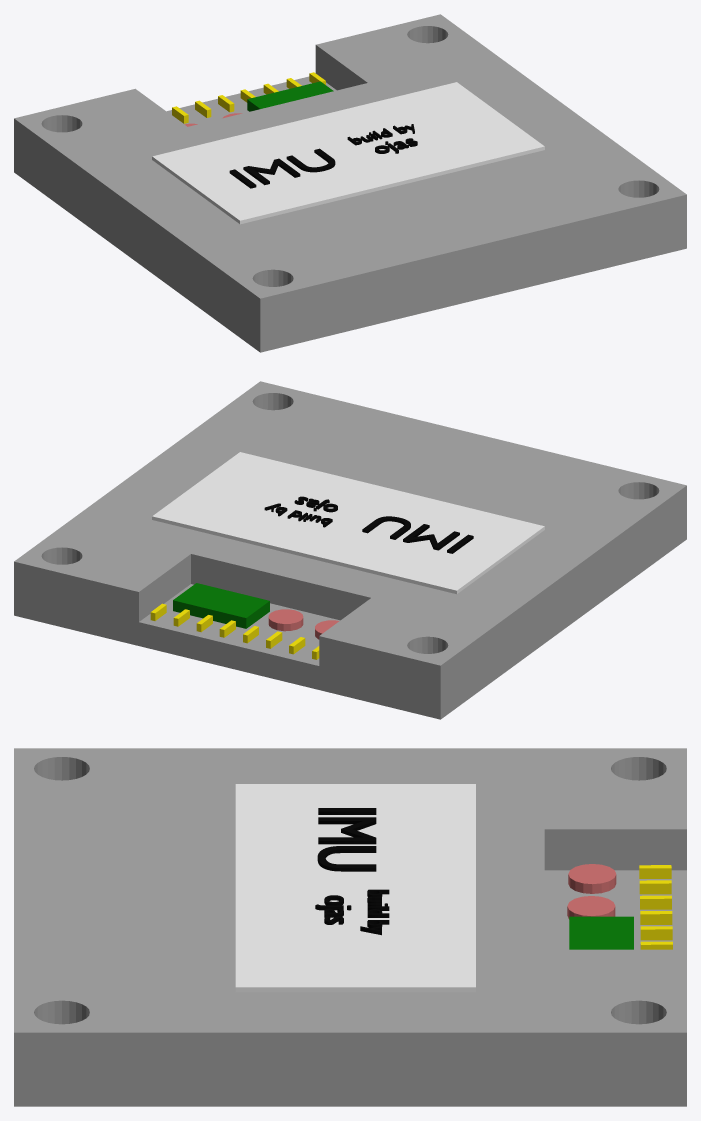
Rendered from imu.dae.
The picture shows the model from 3 angles, top to bottom: view 1: azimuth 30°, elevation 25°; view 2: azimuth 150°, elevation 25°; view 3: azimuth 270°, elevation 25°; orthographic projection. The views are drawn at different scales.
Parts seen in each view (by area): view 1: IMUBody, Label, Text_IMU, Chip, Pin_0; view 2: IMUBody, Label, Chip, Pin_0, Text_IMU, Capacitor2; view 3: IMUBody, Label, Pin_0, Text_IMU, Chip, Capacitor1, Capacitor2, Text_BuildBy, Text_Ojas.
Boxes of the visible parts, x1=… form: IMUBody: x1=14, y1=14, x2=686, y2=352; Label: x1=152, y1=82, x2=544, y2=224; Text_IMU: x1=229, y1=148, x2=335, y2=188; Chip: x1=247, y1=81, x2=333, y2=111; Pin_0: x1=172, y1=72, x2=325, y2=123; IMUBody: x1=14, y1=381, x2=686, y2=719; Label: x1=152, y1=452, x2=544, y2=594; Chip: x1=173, y1=583, x2=269, y2=628; Pin_0: x1=150, y1=603, x2=319, y2=659; Text_IMU: x1=362, y1=516, x2=473, y2=553; Capacitor2: x1=268, y1=609, x2=303, y2=631; IMUBody: x1=14, y1=748, x2=686, y2=1106; Label: x1=235, y1=784, x2=475, y2=992; Pin_0: x1=639, y1=865, x2=672, y2=949; Text_IMU: x1=317, y1=808, x2=376, y2=871; Chip: x1=569, y1=916, x2=633, y2=949; Capacitor1: x1=568, y1=864, x2=616, y2=893; Capacitor2: x1=567, y1=896, x2=615, y2=919; Text_BuildBy: x1=360, y1=889, x2=389, y2=935; Text_Ojas: x1=315, y1=895, x2=351, y2=924.
Bounding box in the file's own units: 0.0176 × 0.0176 × 0.00237.
